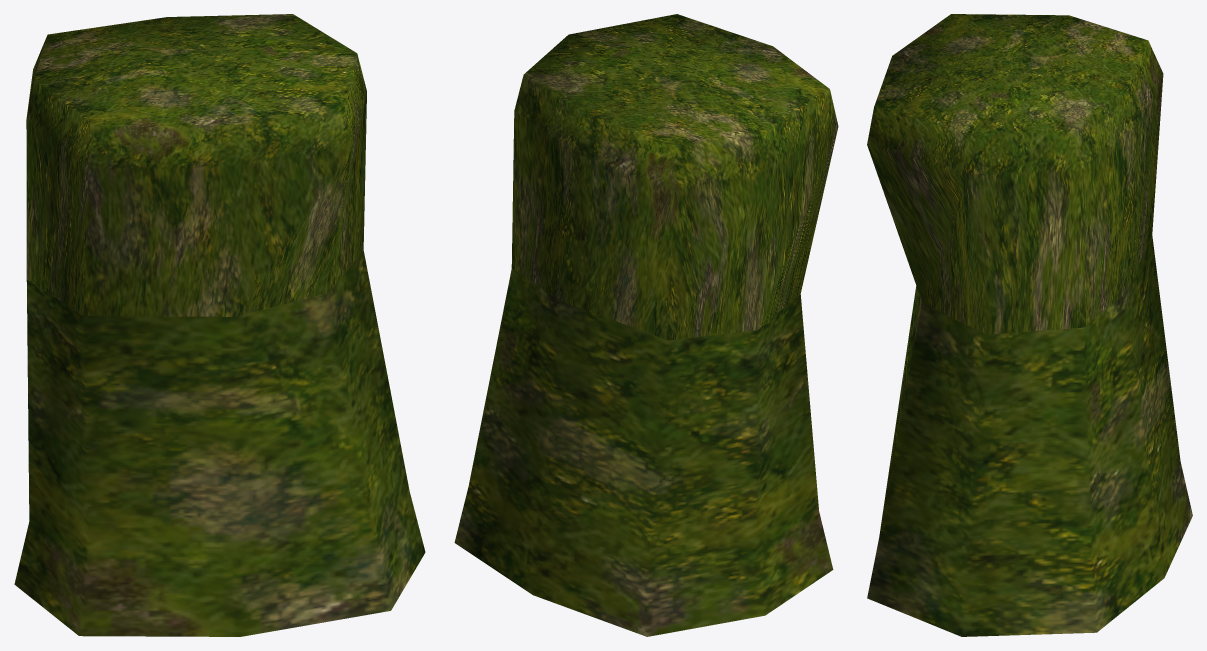
File: OVERHILL_A_01_LINE349.fbx
3 views of the same model, side by side, from view 1: azimuth 30°, elevation 25°; view 2: azimuth 150°, elevation 25°; view 3: azimuth 270°, elevation 25° (orthographic). The views are drawn at different scales.
Visible parts, largest first — view 1: OVERHILL_A_01_LINE349; view 2: OVERHILL_A_01_LINE349; view 3: OVERHILL_A_01_LINE349.
Boxes of the visible parts, x1,y1,x2,y2 form: OVERHILL_A_01_LINE349: [14, 14, 425, 636]; OVERHILL_A_01_LINE349: [454, 14, 838, 636]; OVERHILL_A_01_LINE349: [867, 14, 1192, 636].
Bounding box in the file's own units: 15672 × 22657 × 13866.
1 material, 1 textured.
